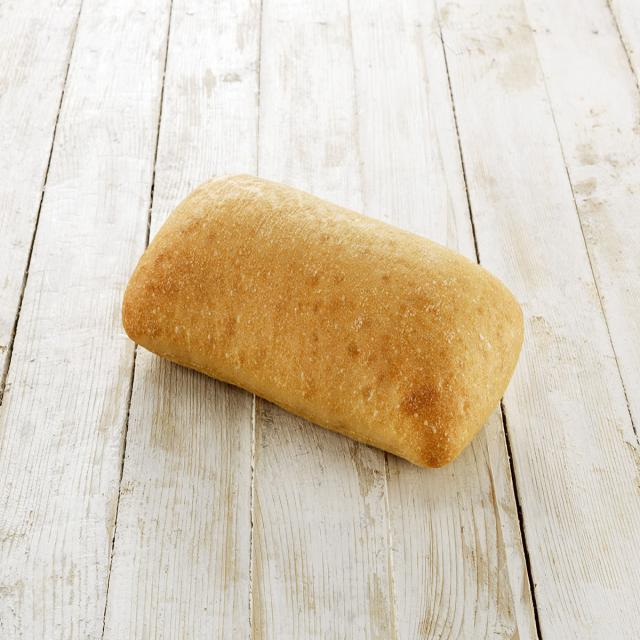Ciabatta: (122, 176, 523, 467)
